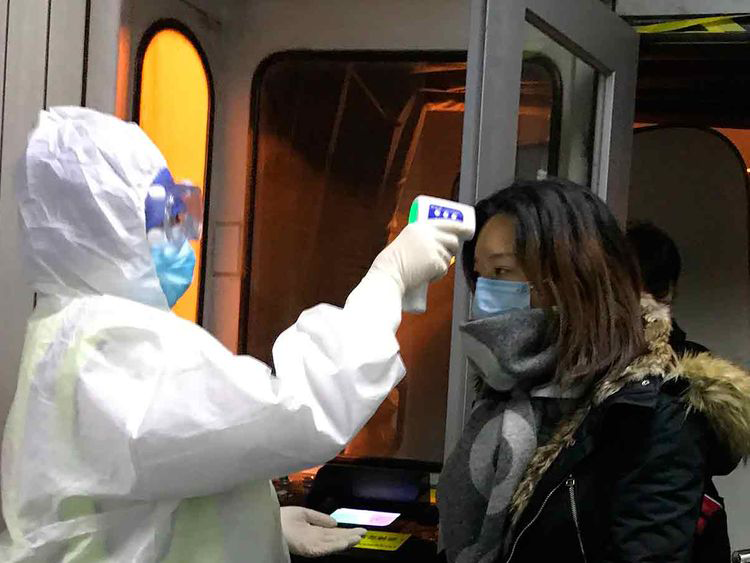Coverall: (1, 104, 403, 559)
Gloves: (376, 219, 467, 297), (279, 507, 370, 557)
Goggles: (146, 181, 207, 240)
with_mask: (153, 214, 197, 308), (470, 260, 531, 315)
